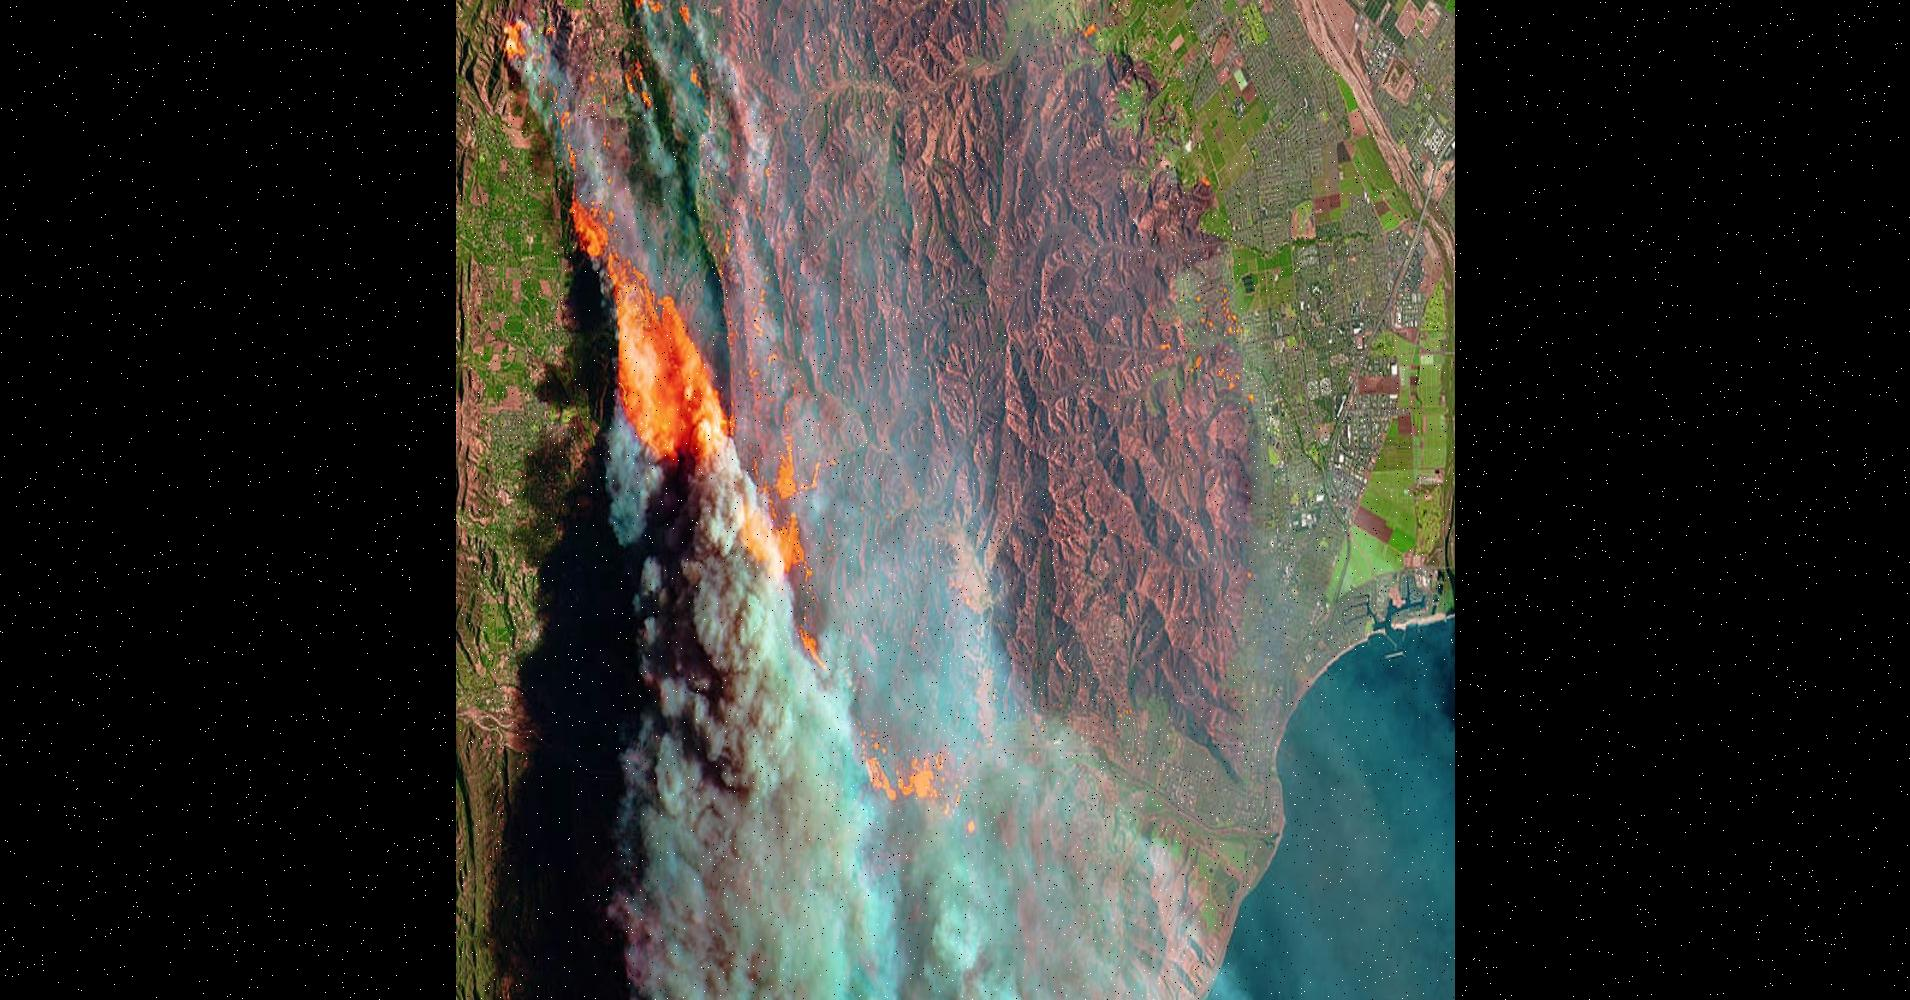fire: (520, 150, 783, 659), (457, 0, 726, 105), (815, 729, 985, 833)
